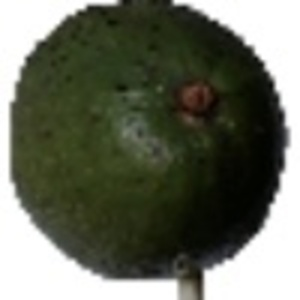abacate: (8, 2, 288, 278)
